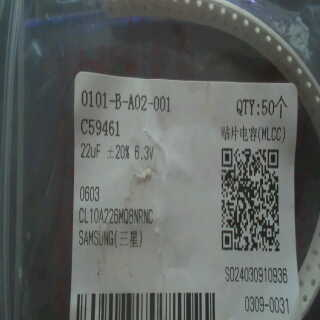22uF: (76, 139, 105, 161)
